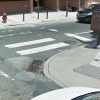crosswalk: (3, 37, 69, 55)
